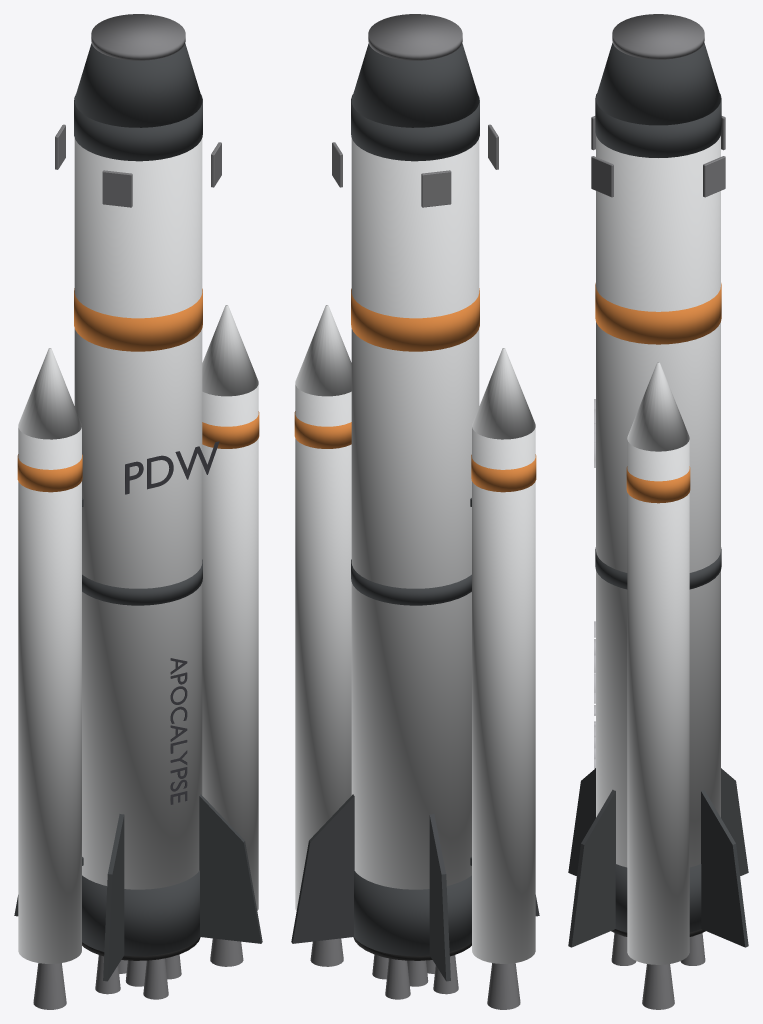
File: booster.glb
The picture shows the model from 3 angles, left to right: view 1: azimuth 30°, elevation 25°; view 2: azimuth 150°, elevation 25°; view 3: azimuth 270°, elevation 25°; orthographic projection. The views are drawn at different scales.
Visible parts, largest first — view 1: Core, StrapBody_0, StrapBody_1, Adapter, Band_0, TailFin_3, Band_3, Band_2, AdapterRing, StrapNose_0, StrapNose_1, TailFin_2 (+10 smaller); view 2: Core, StrapBody_0, StrapBody_1, Adapter, Band_0, TailFin_0, Band_3, Band_2, AdapterRing, StrapNose_0, StrapNose_1, TailFin_1 (+8 smaller); view 3: Core, StrapBody_1, Adapter, TailFin_0, TailFin_3, Band_2, Band_3, AdapterRing, StrapNose_1, Band_0, StrapBand_1, TailFin_1 (+7 smaller).
Boxes of the visible parts, bbox=[...] form: Core: bbox=[74, 138, 202, 889]; StrapBody_0: bbox=[18, 427, 81, 963]; StrapBody_1: bbox=[202, 385, 258, 910]; Adapter: bbox=[74, 43, 202, 127]; Band_0: bbox=[82, 870, 199, 956]; TailFin_3: bbox=[199, 794, 262, 943]; Band_3: bbox=[74, 94, 202, 161]; Band_2: bbox=[74, 288, 202, 351]; AdapterRing: bbox=[91, 14, 185, 60]; StrapNose_0: bbox=[18, 348, 81, 439]; StrapNose_1: bbox=[202, 305, 258, 396]; TailFin_2: bbox=[103, 814, 124, 981]; Core: bbox=[351, 138, 479, 889]; StrapBody_0: bbox=[472, 427, 535, 963]; StrapBody_1: bbox=[295, 385, 351, 910]; Adapter: bbox=[351, 43, 479, 127]; Band_0: bbox=[354, 870, 471, 956]; TailFin_0: bbox=[291, 794, 354, 943]; Band_3: bbox=[351, 94, 479, 161]; Band_2: bbox=[351, 288, 479, 351]; AdapterRing: bbox=[368, 14, 462, 60]; StrapNose_0: bbox=[472, 348, 535, 439]; StrapNose_1: bbox=[295, 305, 351, 396]; TailFin_1: bbox=[429, 814, 450, 981]; Core: bbox=[596, 136, 720, 867]; StrapBody_1: bbox=[627, 440, 689, 964]; Adapter: bbox=[596, 43, 720, 125]; TailFin_0: bbox=[701, 789, 748, 947]; TailFin_3: bbox=[568, 789, 615, 947]; Band_2: bbox=[595, 283, 721, 344]; Band_3: bbox=[595, 94, 721, 157]; AdapterRing: bbox=[612, 14, 704, 59]; StrapNose_1: bbox=[627, 362, 689, 451]; Band_0: bbox=[615, 864, 701, 932]; StrapBand_1: bbox=[626, 466, 690, 503]; TailFin_1: bbox=[721, 768, 748, 876].
Size of the model in its own units: 8.84 by 34.32 by 6.05.
